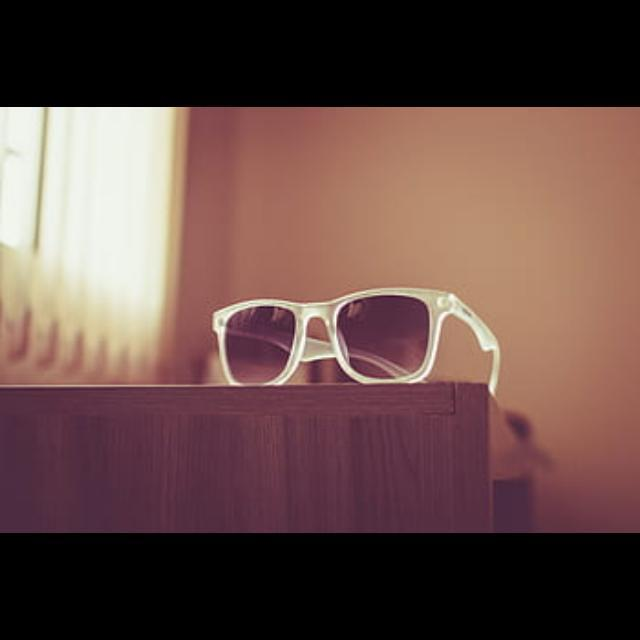sunglasses: (207, 286, 501, 389)
